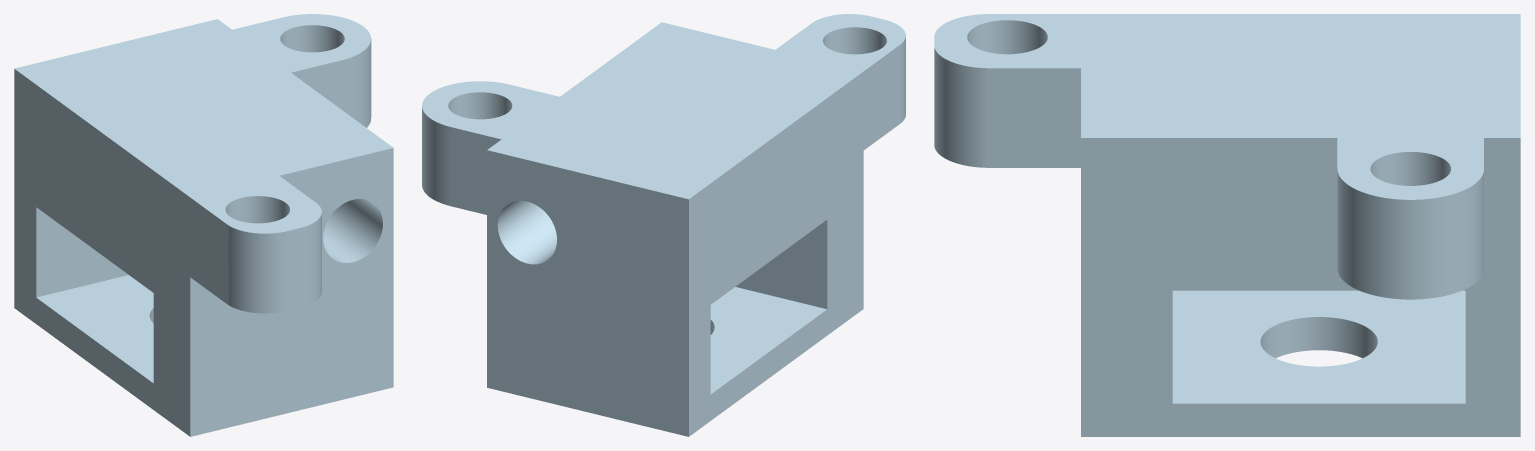
3 renders of one model, left to right at view 1: azimuth 30°, elevation 25°; view 2: azimuth 150°, elevation 25°; view 3: azimuth 270°, elevation 25°, orthographic. The views are drawn at different scales.
Visible parts, largest first — view 1: mesh295, mesh283, mesh284, mesh278, mesh288, mesh277, mesh282, mesh294, mesh286, mesh297, mesh290, mesh292 (+1 smaller); view 2: mesh281, mesh295, mesh283, mesh278, mesh276, mesh293, mesh282, mesh294, mesh297, mesh290, mesh288; view 3: mesh291, mesh295, mesh278, mesh294, mesh285, mesh286, mesh279, mesh290, mesh297.
Part boxes in pixels (<box>): mesh295: <box>14,14,393,233</box>; mesh283: <box>14,69,226,436</box>; mesh284: <box>190,148,393,436</box>; mesh278: <box>36,275,153,382</box>; mesh288: <box>227,224,287,313</box>; mesh277: <box>36,207,128,297</box>; mesh282: <box>323,199,382,262</box>; mesh294: <box>342,38,371,127</box>; mesh286: <box>300,213,321,307</box>; mesh297: <box>280,25,344,52</box>; mesh290: <box>225,196,289,223</box>; mesh292: <box>291,60,341,109</box>; mesh281: <box>487,150,688,436</box>; mesh295: <box>422,14,905,199</box>; mesh283: <box>689,45,899,436</box>; mesh278: <box>710,287,826,394</box>; mesh276: <box>735,220,827,308</box>; mesh293: <box>451,127,501,214</box>; mesh282: <box>497,200,556,264</box>; mesh294: <box>422,107,450,206</box>; mesh297: <box>448,92,512,119</box>; mesh290: <box>823,27,886,54</box>; mesh288: <box>900,36,905,123</box>; mesh291: <box>1081,138,1520,436</box>; mesh295: <box>934,14,1520,199</box>; mesh278: <box>1172,290,1465,403</box>; mesh294: <box>1337,169,1483,299</box>; mesh285: <box>989,68,1080,167</box>; mesh286: <box>934,47,989,167</box>; mesh279: <box>1260,317,1377,358</box>; mesh290: <box>967,20,1047,54</box>; mesh297: <box>1370,152,1450,185</box>.
Bounding box in the file's own units: 0.012 × 0.009 × 0.016.
